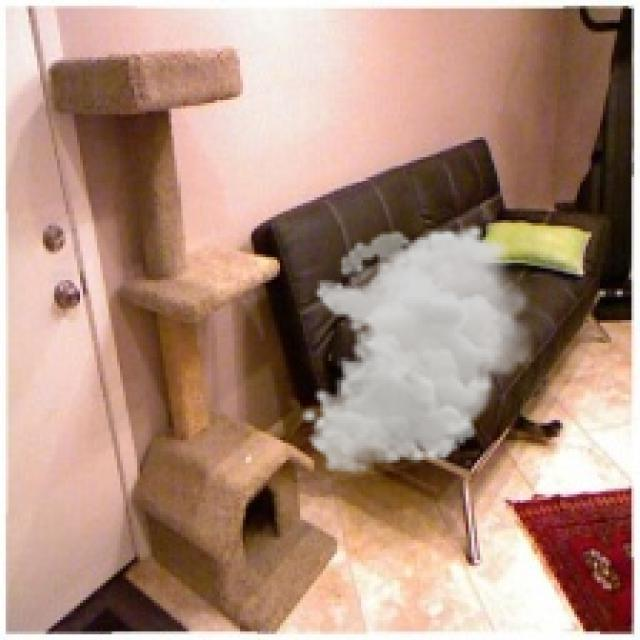Smoke: (300, 223, 540, 474)
